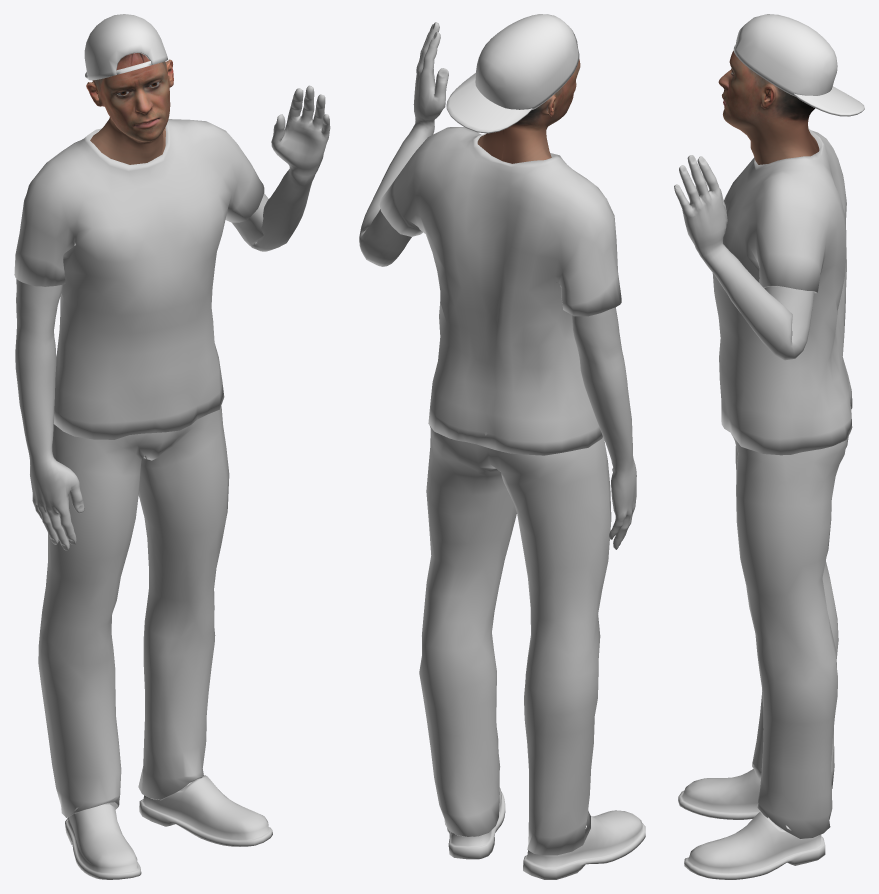
Rendered from pose_4.fbx.
3 views of the same model, side by side, from view 1: azimuth 30°, elevation 25°; view 2: azimuth 150°, elevation 25°; view 3: azimuth 270°, elevation 25° (orthographic). The views are drawn at different scales.
Parts seen in each view (by area): view 1: clothes.003, body.004, head_1.004, cap.001; view 2: clothes.003, body.004, cap.001, head_1.004; view 3: clothes.003, body.004, cap.001, head_1.004.
Part boxes in pixels (x1,y1,x2,y2): clothes.003: [14, 119, 272, 879]; body.004: [15, 85, 330, 789]; head_1.004: [86, 53, 173, 164]; cap.001: [84, 14, 167, 80]; clothes.003: [379, 127, 645, 879]; body.004: [359, 22, 636, 549]; cap.001: [446, 14, 579, 133]; head_1.004: [477, 59, 580, 163]; clothes.003: [678, 128, 852, 879]; body.004: [674, 155, 813, 829]; cap.001: [733, 14, 864, 116]; head_1.004: [718, 51, 819, 164].
Bounding box in the file's own units: 0.5284 × 1.56 × 0.3333.
